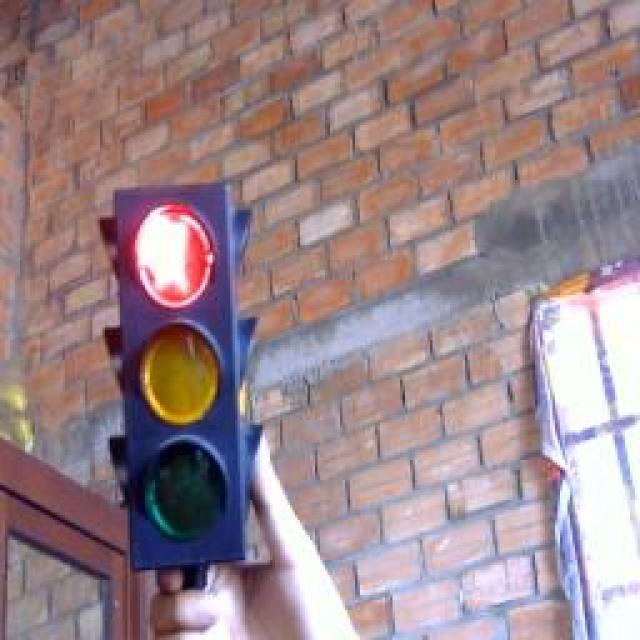-: (126, 197, 221, 317)
